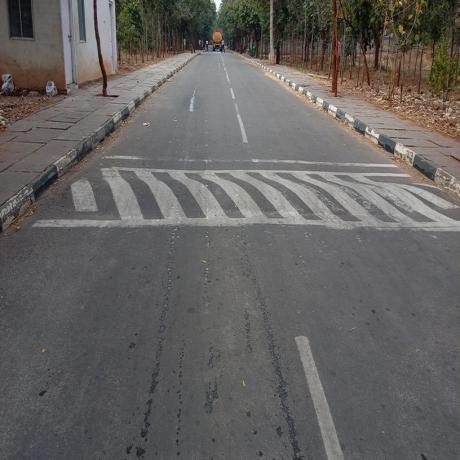Speed Bump: (31, 155, 460, 229)
